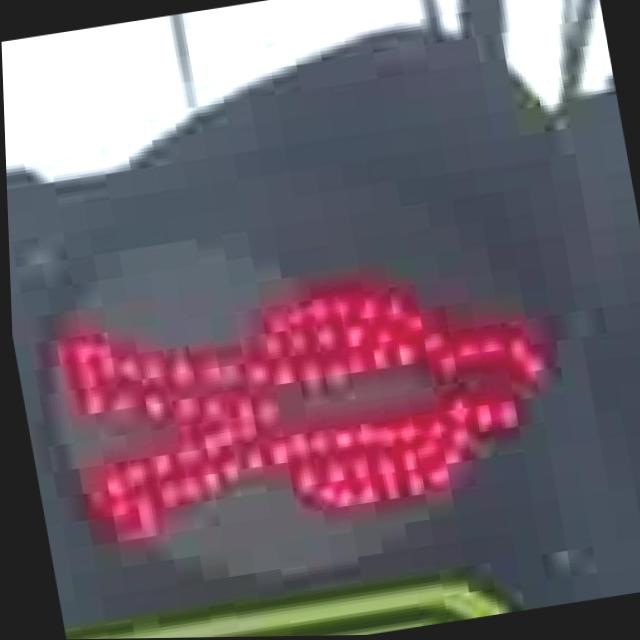red_light: (37, 223, 590, 570)
